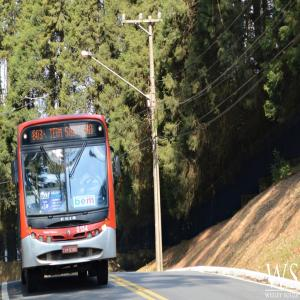Vehicle-registration-plate: (64, 247, 78, 255)
